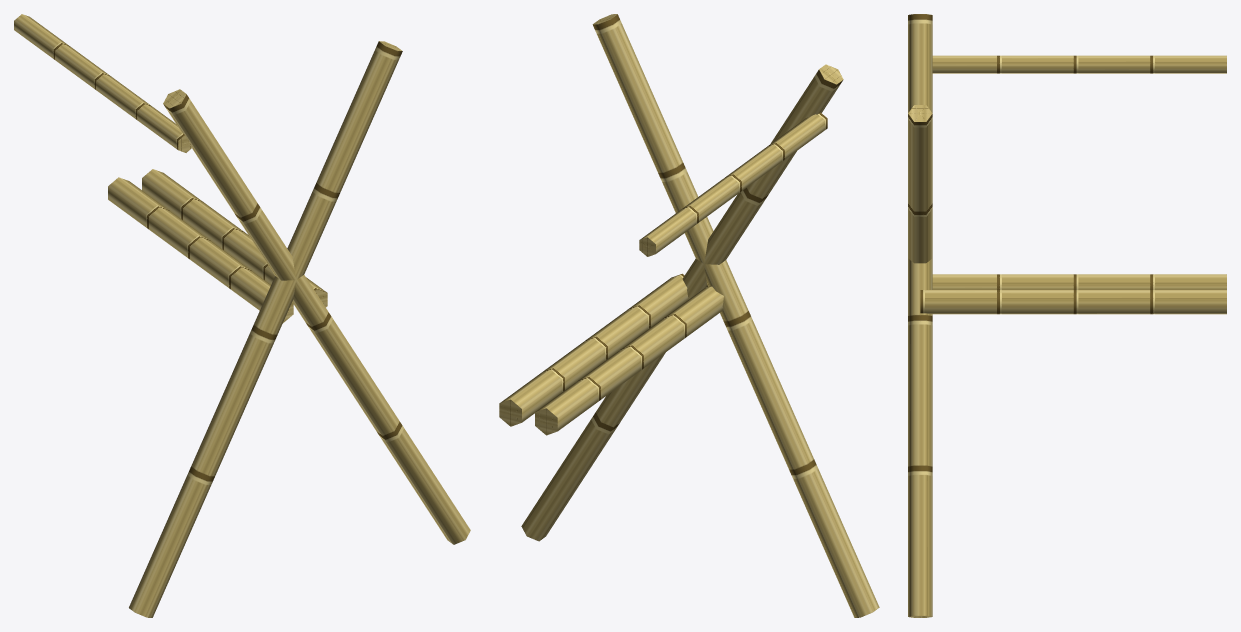
The model's file is cau_khi.glb.
3 views of the same model, side by side, from view 1: azimuth 30°, elevation 25°; view 2: azimuth 150°, elevation 25°; view 3: azimuth 270°, elevation 25° (orthographic). The views are drawn at different scales.
Parts seen in each view (by area): view 1: cau_khi; view 2: cau_khi; view 3: cau_khi.
Boxes of the visible parts, <box> form: cau_khi: <box>14,14,470,617</box>; cau_khi: <box>499,14,879,617</box>; cau_khi: <box>908,14,1226,617</box>.
Size of the model in its own units: 0.5903 by 0.8676 by 0.52.
Materials: 1 (1 with a texture image).
